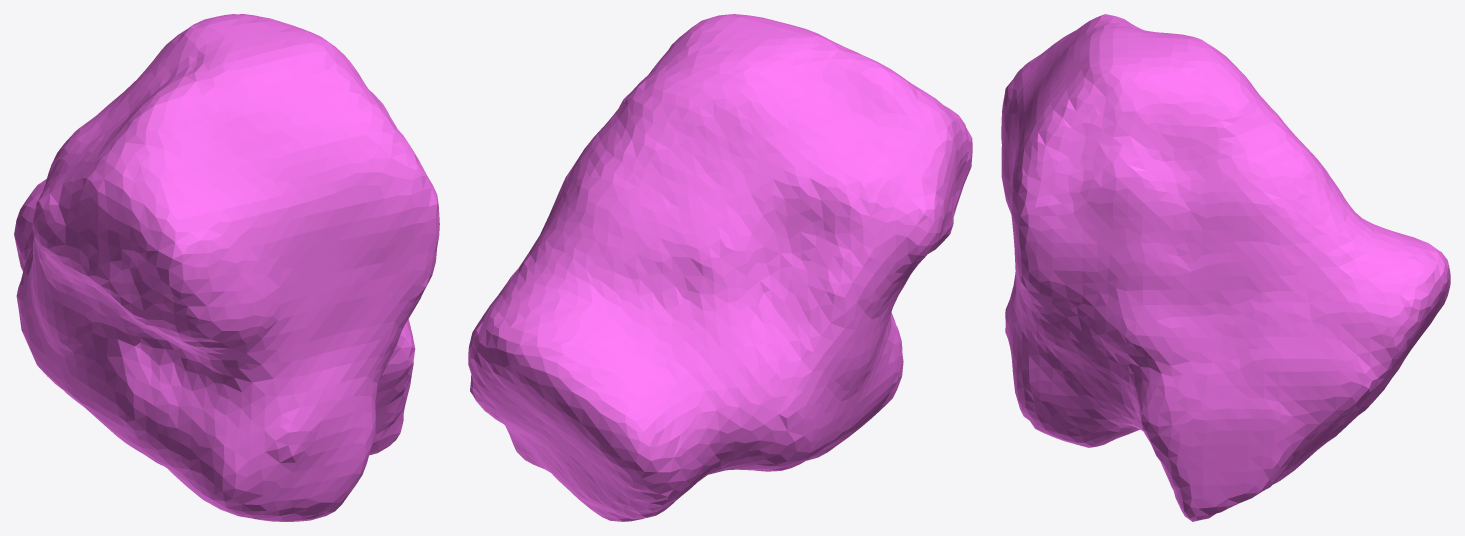
The model's file is Cuboid-1-remesh-7K-smooth.fbx.
3 views of the same model, side by side, from view 1: azimuth 30°, elevation 25°; view 2: azimuth 150°, elevation 25°; view 3: azimuth 270°, elevation 25° (orthographic). The views are drawn at different scales.
Visible parts, largest first — view 1: node_id53; view 2: node_id53; view 3: node_id53.
Part boxes in pixels (box(x1,y1,x2,y2)): node_id53: box(14, 14, 439, 521); node_id53: box(468, 14, 972, 521); node_id53: box(1001, 14, 1450, 521).
Size of the model in its own units: 0.4355 by 0.512 by 0.507.
Materials: 1 (1 with a texture image).
